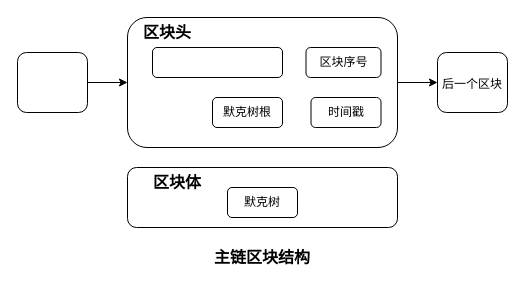
The diagram is 525 pixels wide and 290 high, and some of its shapes have lost their labels. Here are the shapes that lost their labels. From the top down, the centre of each, then its label:
At pixel 52 82: "前一个区块".
At pixel 217 62: "前一个区块的哈希值".
